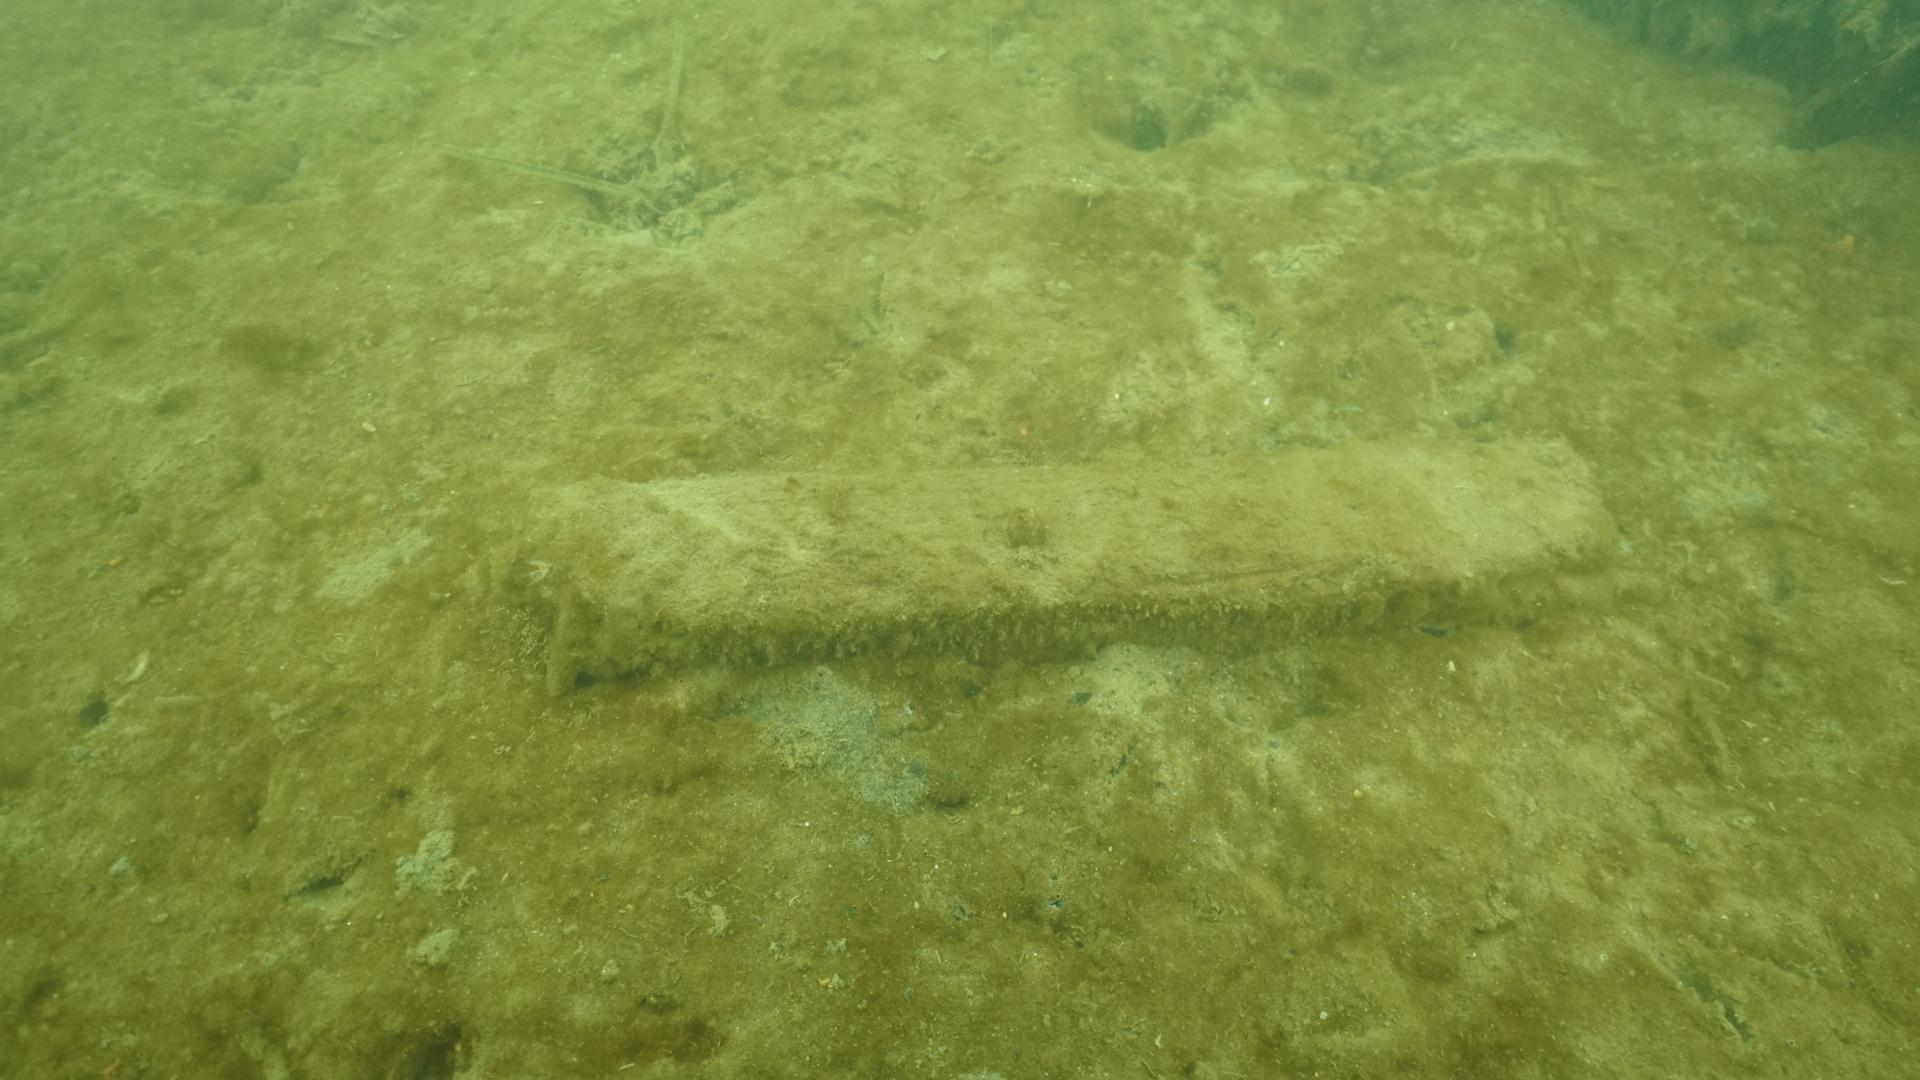wood: (497, 426, 1630, 703)
